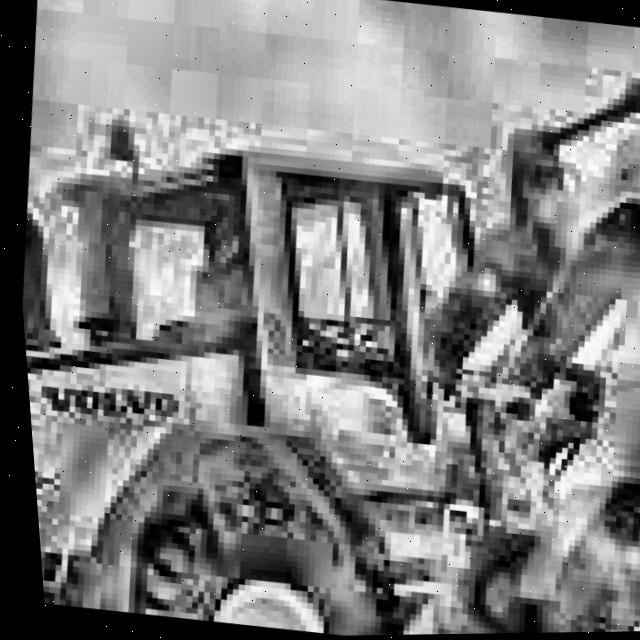buldozerpayloadergrader: (4, 69, 640, 640)
